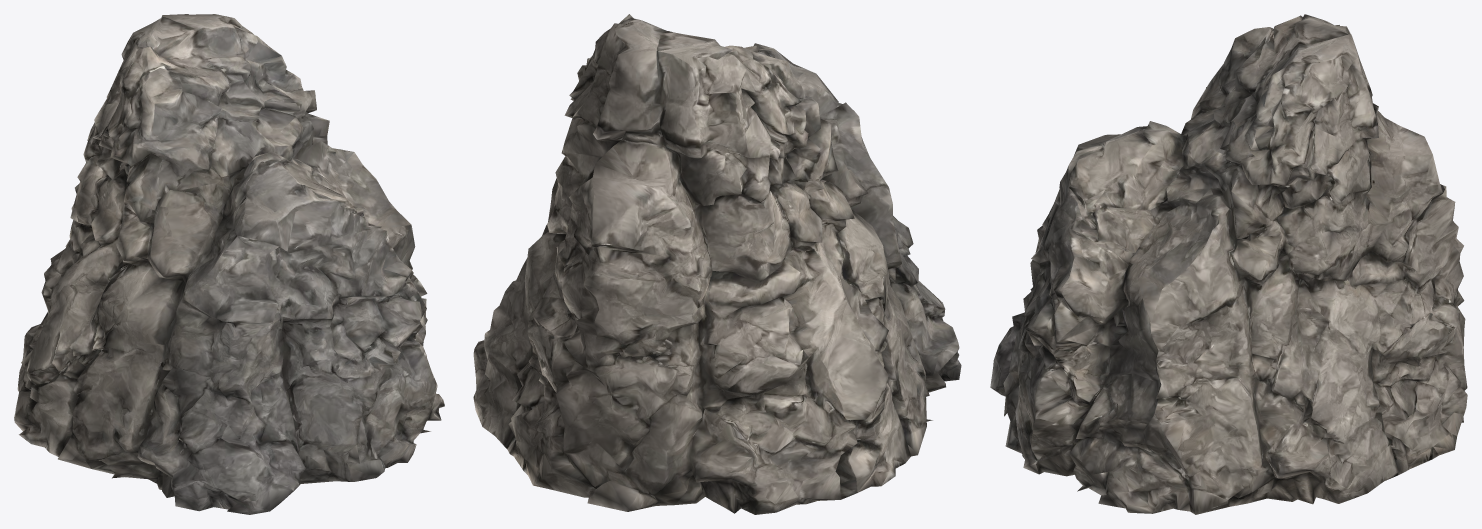
The model's file is crag_b_lod1.glb.
The picture shows the model from 3 angles, left to right: view 1: azimuth 30°, elevation 25°; view 2: azimuth 150°, elevation 25°; view 3: azimuth 270°, elevation 25°; orthographic projection. The views are drawn at different scales.
Parts seen in each view (by area): view 1: crag_b_lod1; view 2: crag_b_lod1; view 3: crag_b_lod1.
Part boxes in pixels (box(x1,y1,x2,y2)): crag_b_lod1: box(14, 14, 444, 514); crag_b_lod1: box(473, 14, 961, 514); crag_b_lod1: box(990, 14, 1467, 514).
Size of the model in its own units: 59.97 by 58.06 by 65.06.
1 material, 1 textured.
